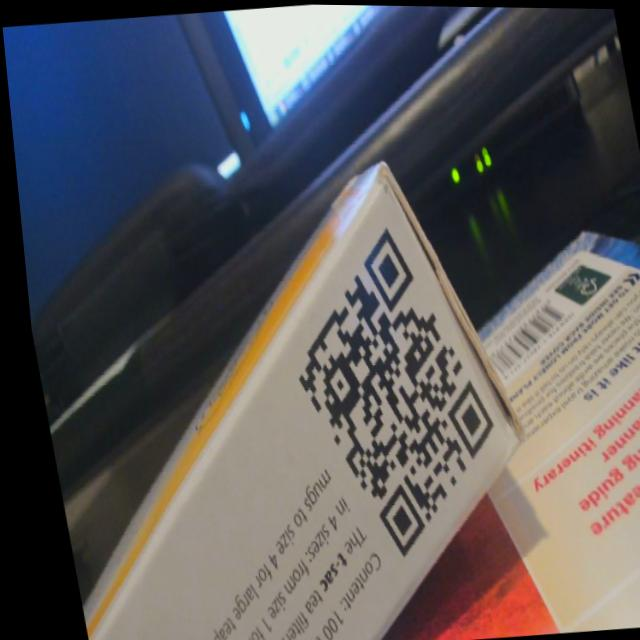QR_CODE: (254, 205, 519, 576)
